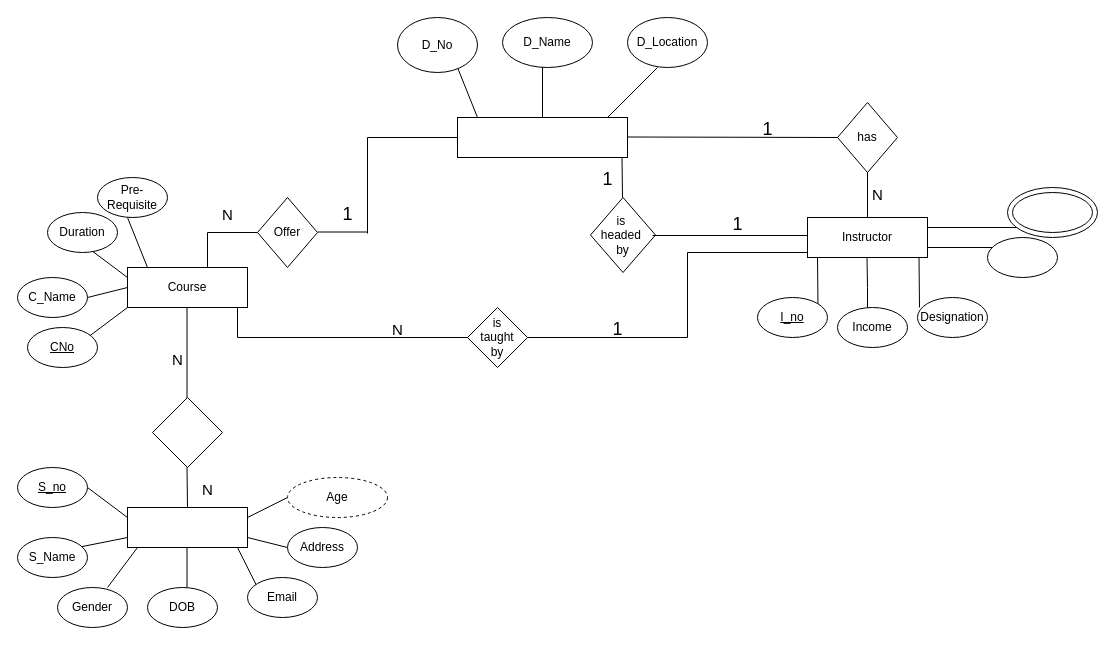
The diagram is 1115 pixels wide and 645 high, and some of its shapes have lost their labels. The centre of each missing label's shape, as x and y in pixels:
"Department" goes at point 542,137.
"Enrolled by" goes at point 187,432.
"Mobile_no" goes at point 1052,212.
"Room_no" goes at point 1022,257.
"Student" goes at point 187,527.
